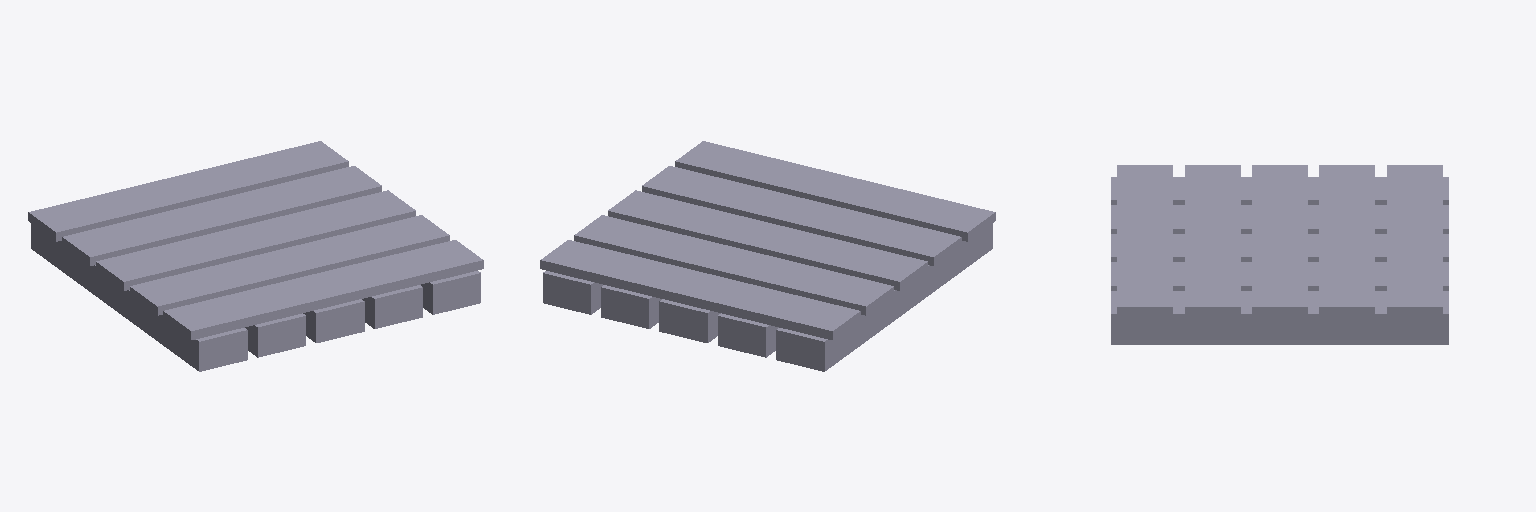
File: palette.obj
The picture shows the model from 3 angles: view 1: azimuth 30°, elevation 25°; view 2: azimuth 150°, elevation 25°; view 3: azimuth 270°, elevation 25°; orthographic projection.
Size of the model in its own units: 1 by 0.13 by 1.